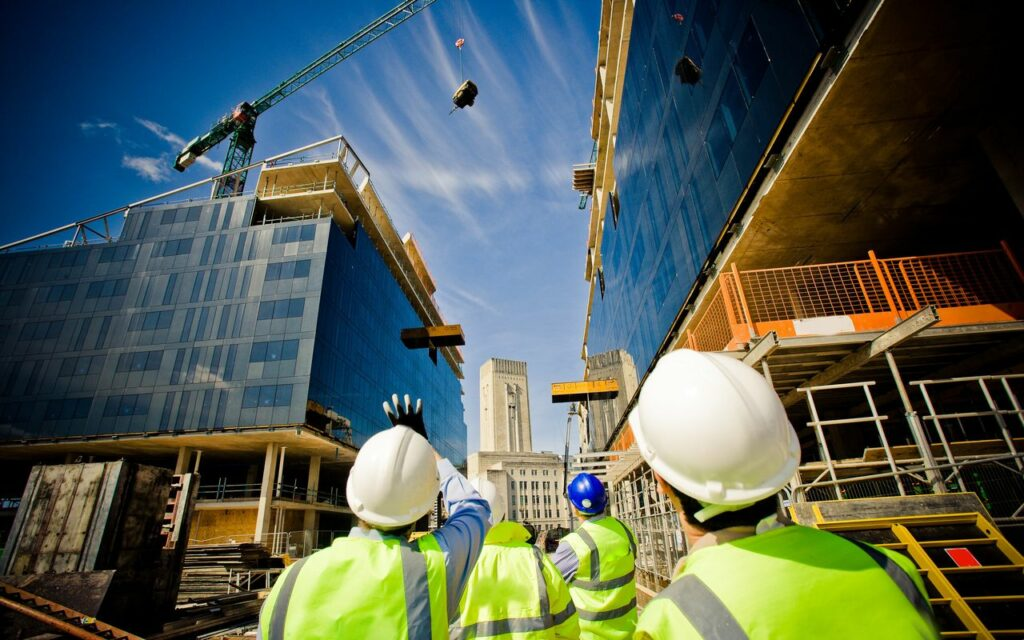Casco de seguridad: (622, 347, 824, 522), (341, 420, 453, 528), (566, 473, 617, 518)
